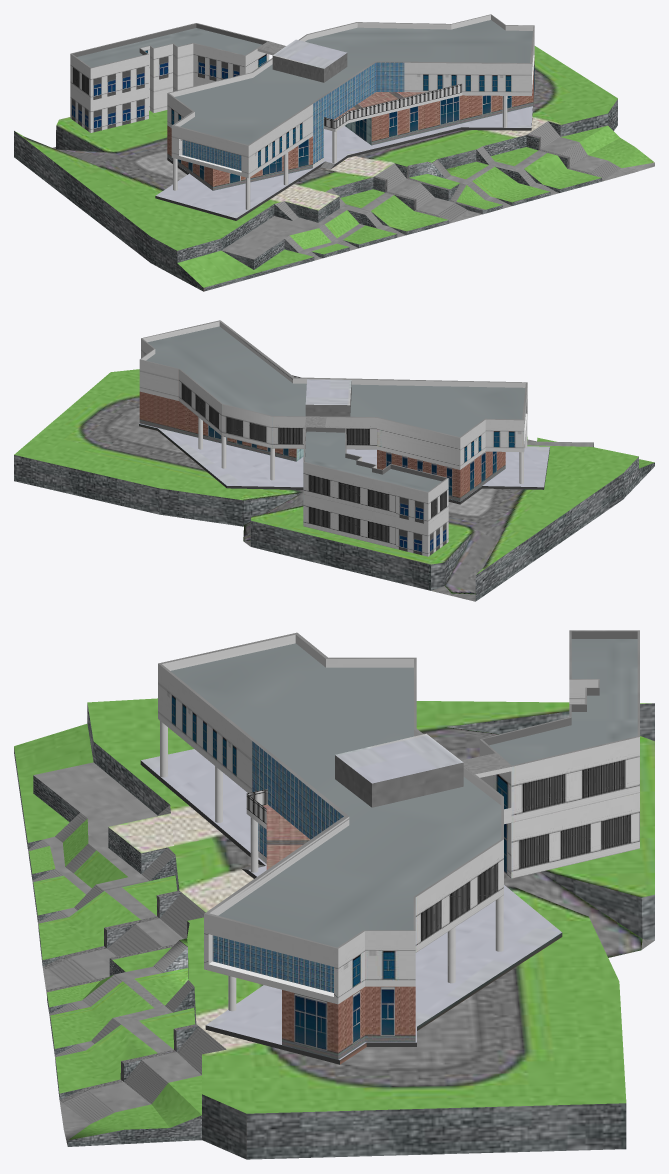
3 renders of one model, top to bottom at view 1: azimuth 30°, elevation 25°; view 2: azimuth 150°, elevation 25°; view 3: azimuth 270°, elevation 25°, orthographic. The views are drawn at different scales.
Parts seen in each view (by area): view 1: 5b2c64708334ed2c70046e13.001; view 2: 5b2c64708334ed2c70046e13.001; view 3: 5b2c64708334ed2c70046e13.001.
Boxes of the visible parts, <box> form: 5b2c64708334ed2c70046e13.001: <box>14,14,654,291</box>; 5b2c64708334ed2c70046e13.001: <box>14,320,654,601</box>; 5b2c64708334ed2c70046e13.001: <box>14,630,654,1159</box>.
Size of the model in its own units: 95.78 by 19.14 by 62.46.
1 material, 1 textured.
